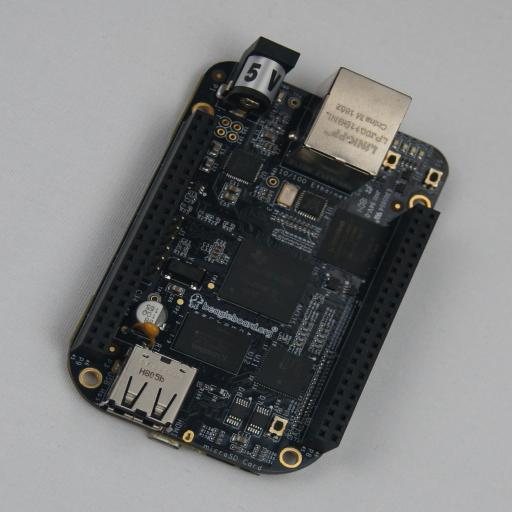Beaglebone Black: (67, 36, 448, 476)
